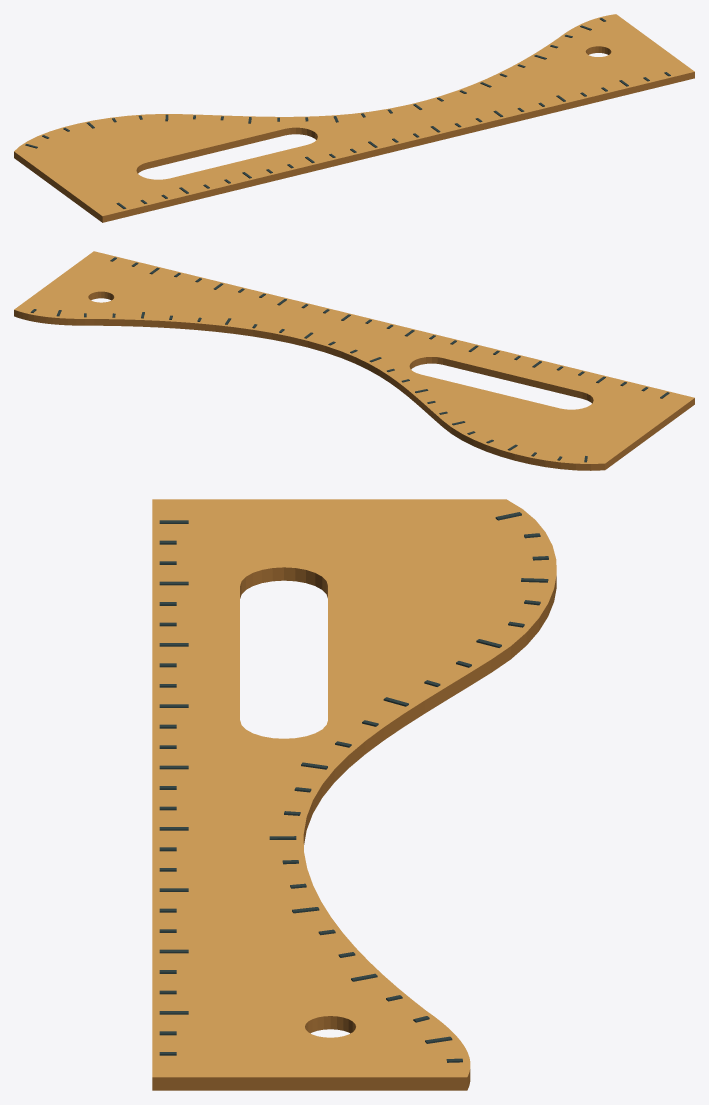
The picture shows the model from 3 angles, top to bottom: view 1: azimuth 30°, elevation 25°; view 2: azimuth 150°, elevation 25°; view 3: azimuth 270°, elevation 25°; orthographic projection. The views are drawn at different scales.
Visible parts, largest first — view 1: Ruler_OnePieceTrueWindowAndHole; view 2: Ruler_OnePieceTrueWindowAndHole; view 3: Ruler_OnePieceTrueWindowAndHole.
Part boxes in pixels (bbox=[...]): Ruler_OnePieceTrueWindowAndHole: bbox=[14, 14, 694, 222]; Ruler_OnePieceTrueWindowAndHole: bbox=[14, 251, 694, 470]; Ruler_OnePieceTrueWindowAndHole: bbox=[152, 499, 556, 1090].
Bounding box in the file's own units: 0.56 × 0.0067 × 0.1656.
